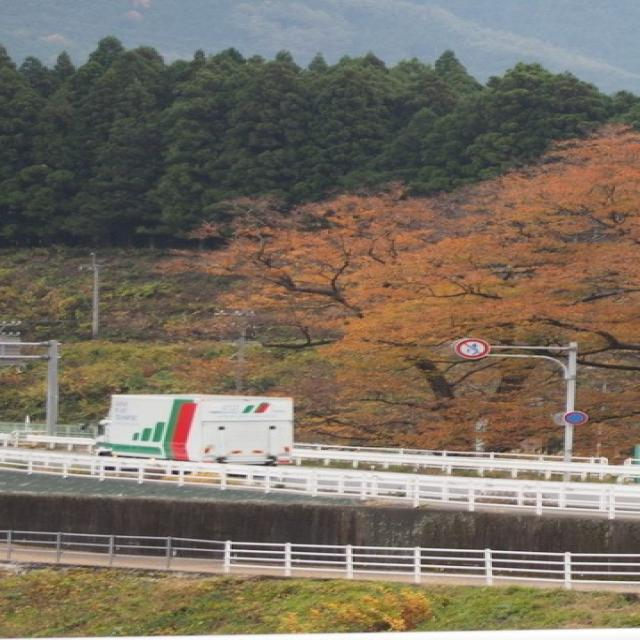zelkova: (142, 118, 640, 459)
